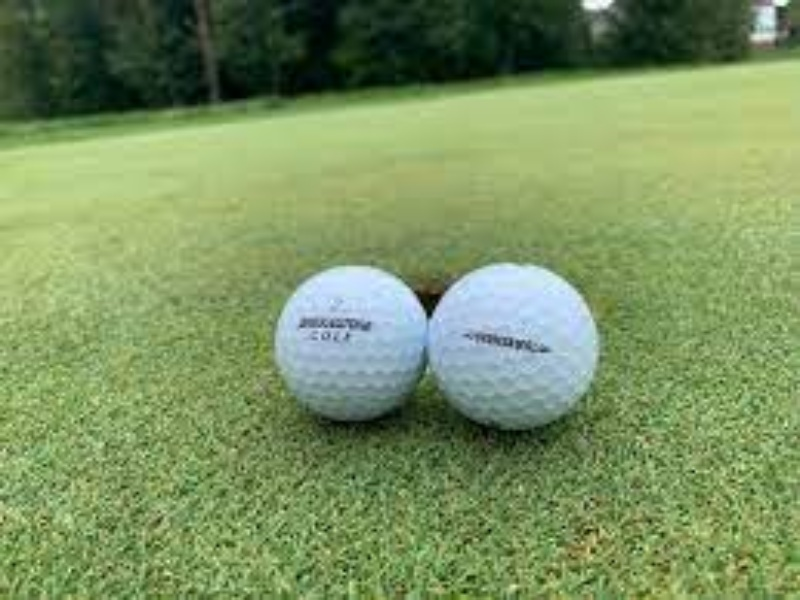golf_ball: (430, 263, 598, 430), (273, 265, 426, 422)
